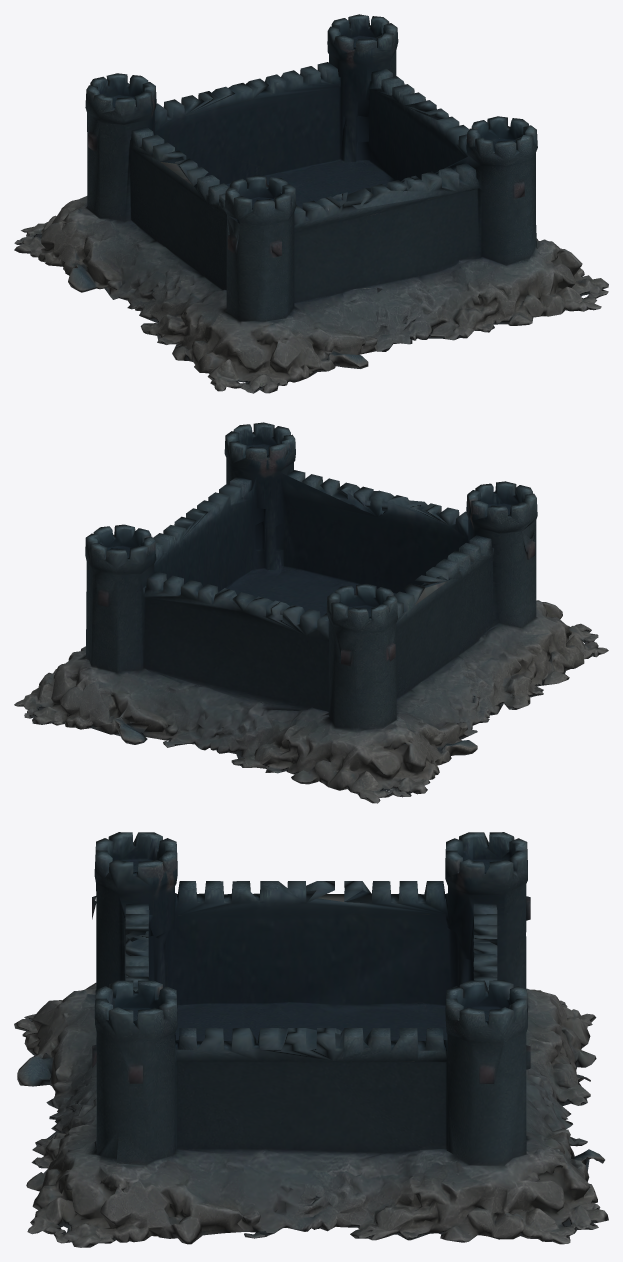
The model's file is prp_lm_iron_citadel.glb.
3 renders of one model, top to bottom at view 1: azimuth 30°, elevation 25°; view 2: azimuth 150°, elevation 25°; view 3: azimuth 270°, elevation 25°, orthographic. The views are drawn at different scales.
Visible parts, largest first — view 1: prp_lm_iron_citadel; view 2: prp_lm_iron_citadel; view 3: prp_lm_iron_citadel.
Boxes of the visible parts, x1,y1,x2,y2 form: prp_lm_iron_citadel: (14, 14, 608, 393); prp_lm_iron_citadel: (14, 422, 608, 803); prp_lm_iron_citadel: (14, 832, 608, 1247).
Bounding box in the file's own units: 56.45 × 21 × 56.24.
Materials: 1 (1 with a texture image).
